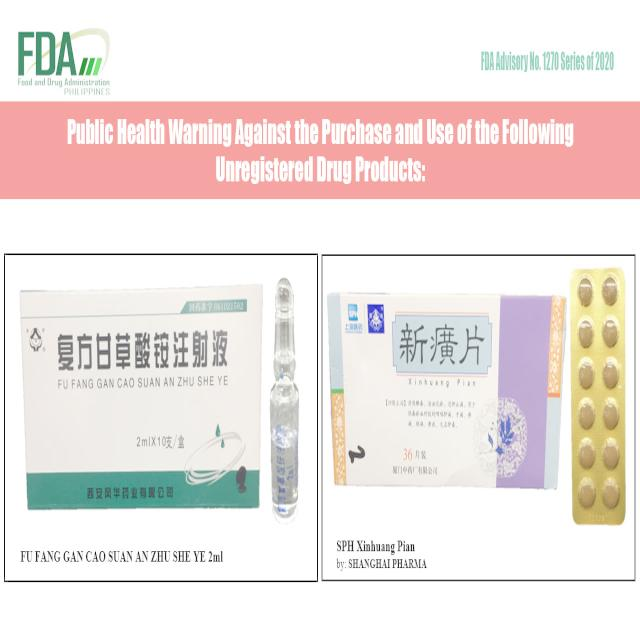counterfeit: (16, 278, 260, 510), (325, 288, 561, 498), (568, 263, 628, 523), (270, 274, 302, 534)
